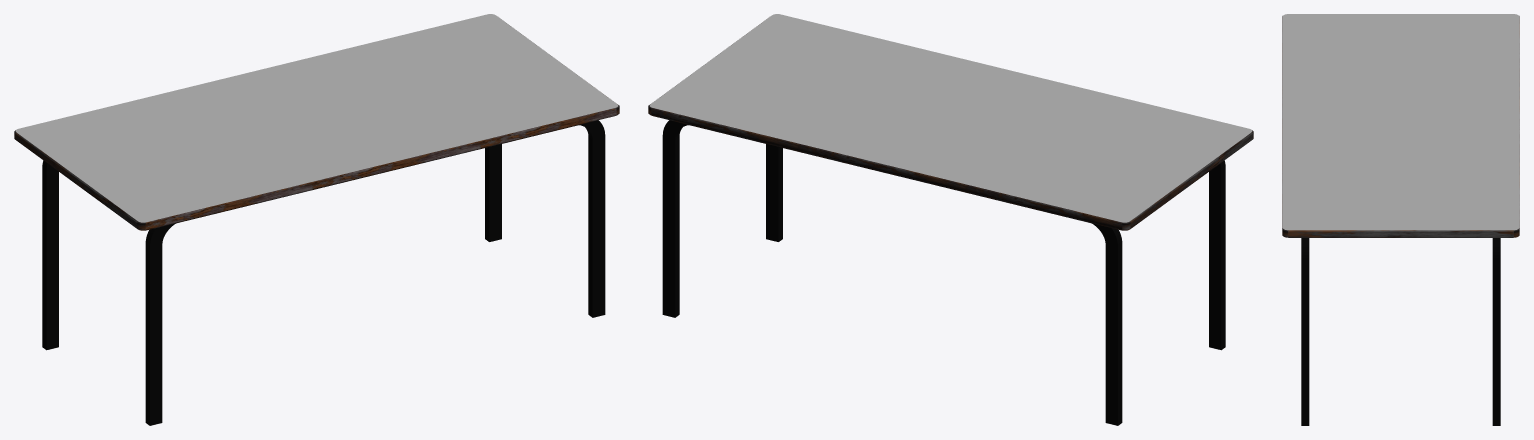
The model's file is Table_001.fbx.
The picture shows the model from 3 angles, left to right: view 1: azimuth 30°, elevation 25°; view 2: azimuth 150°, elevation 25°; view 3: azimuth 270°, elevation 25°; orthographic projection. The views are drawn at different scales.
Parts seen in each view (by area): view 1: Cube; view 2: Cube; view 3: Cube.
Boxes of the visible parts, box(x1,y1,x2,y2) form: Cube: box(14, 14, 619, 425); Cube: box(648, 14, 1253, 425); Cube: box(1282, 14, 1519, 425).
Bounding box in the file's own units: 175 × 74.53 × 80.96.
